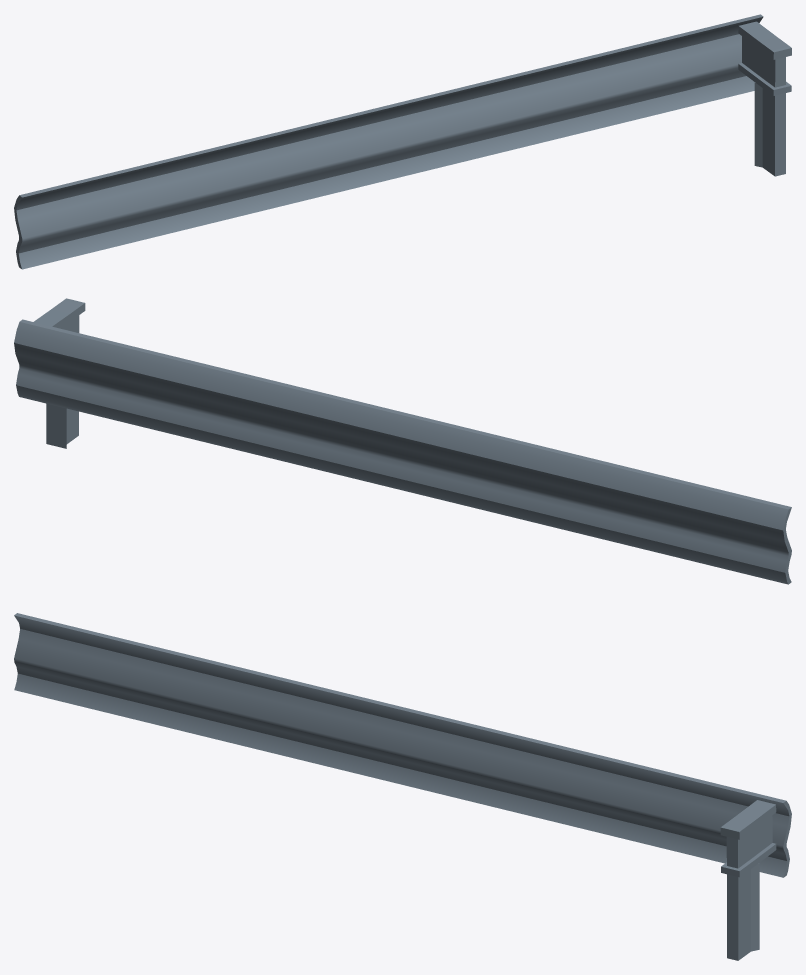
File: Barrier.fbx
3 renders of one model, top to bottom at view 1: azimuth 30°, elevation 25°; view 2: azimuth 150°, elevation 25°; view 3: azimuth 330°, elevation 25°, orthographic. The views are drawn at different scales.
Parts seen in each view (by area): view 1: Box009; view 2: Box009; view 3: Box009.
Boxes of the visible parts, x1,y1,x2,y2 form: Box009: (14,14,791,269); Box009: (14,298,791,584); Box009: (14,613,791,960).
Bounding box in the file's own units: 20.44 × 3.44 × 2.08.
